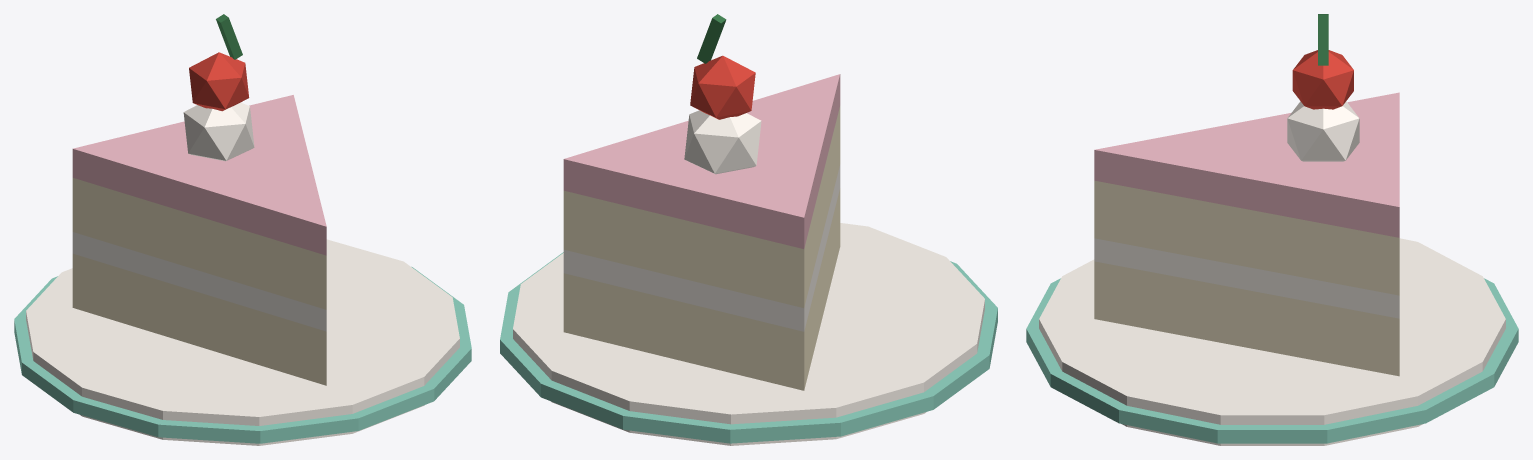
The model's file is CatCafe_Menu_CakeSlice.glb.
The picture shows the model from 3 angles, left to right: view 1: azimuth 30°, elevation 25°; view 2: azimuth 150°, elevation 25°; view 3: azimuth 270°, elevation 25°; orthographic projection. The views are drawn at different scales.
Parts seen in each view (by area): view 1: CatCafe_Menu_CakeSlice, CatCafe_Menu_CakeSlice_Plate; view 2: CatCafe_Menu_CakeSlice, CatCafe_Menu_CakeSlice_Plate; view 3: CatCafe_Menu_CakeSlice, CatCafe_Menu_CakeSlice_Plate.
Part boxes in pixels (box(x1,y1,x2,y2)): CatCafe_Menu_CakeSlice: box(72, 14, 326, 385); CatCafe_Menu_CakeSlice_Plate: box(14, 239, 471, 445); CatCafe_Menu_CakeSlice: box(563, 14, 840, 390); CatCafe_Menu_CakeSlice_Plate: box(500, 223, 997, 445); CatCafe_Menu_CakeSlice: box(1094, 14, 1399, 376); CatCafe_Menu_CakeSlice_Plate: box(1026, 238, 1518, 445).
Size of the model in its own units: 1.13 by 0.9207 by 1.16.
Materials: 1 (1 with a texture image).
